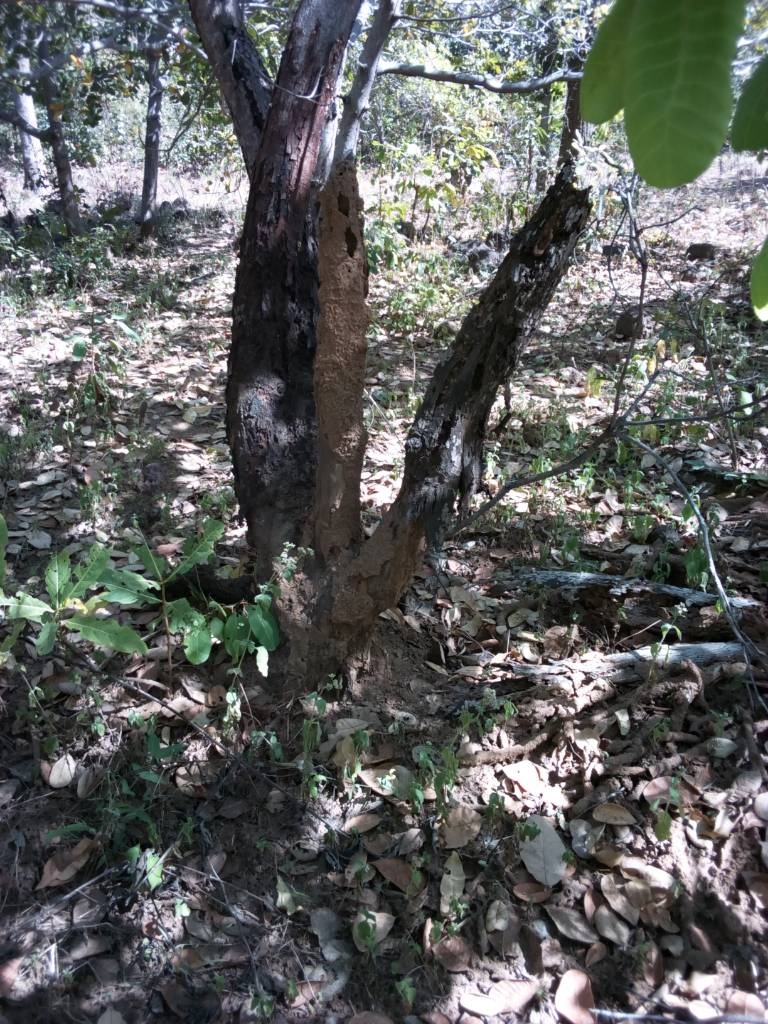Termites: (313, 160, 372, 613)
